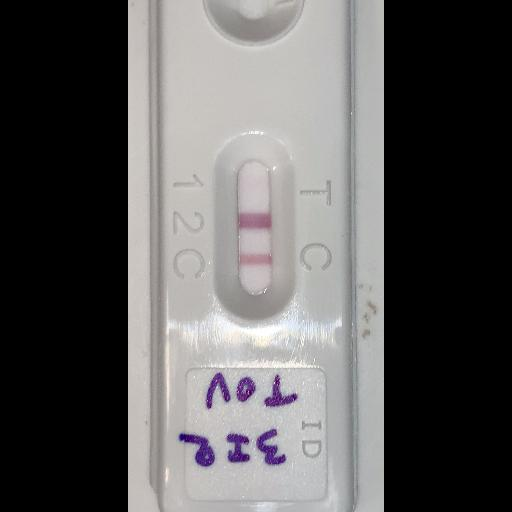Pos: (157, 0, 358, 511)
